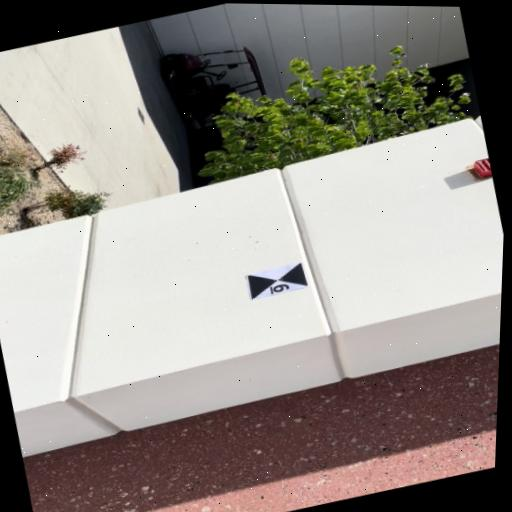target6: (246, 261, 311, 300)
